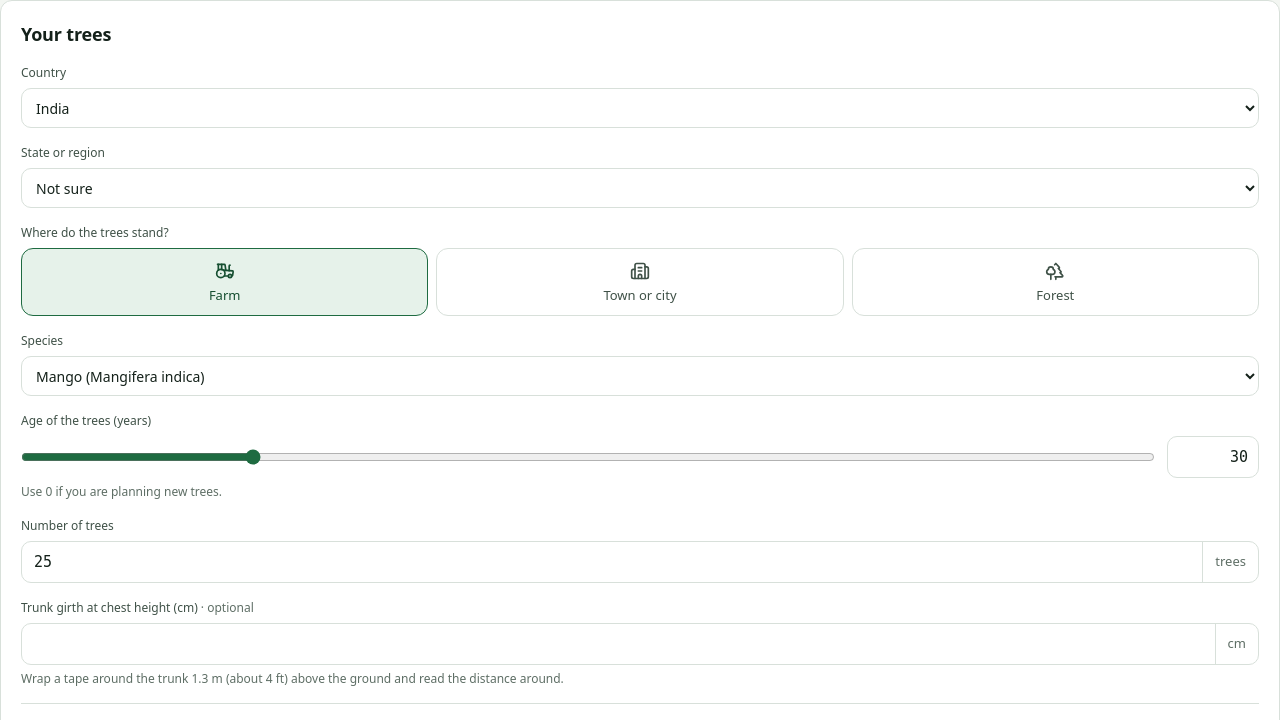
Scenario: InputsCard › lets someone type an age that is past the end of the slider
Replace the text in the field labelled "Age of the trees (years)" with "200" at (1213, 457), box x1=1168 y1=437 x2=1258 y2=477
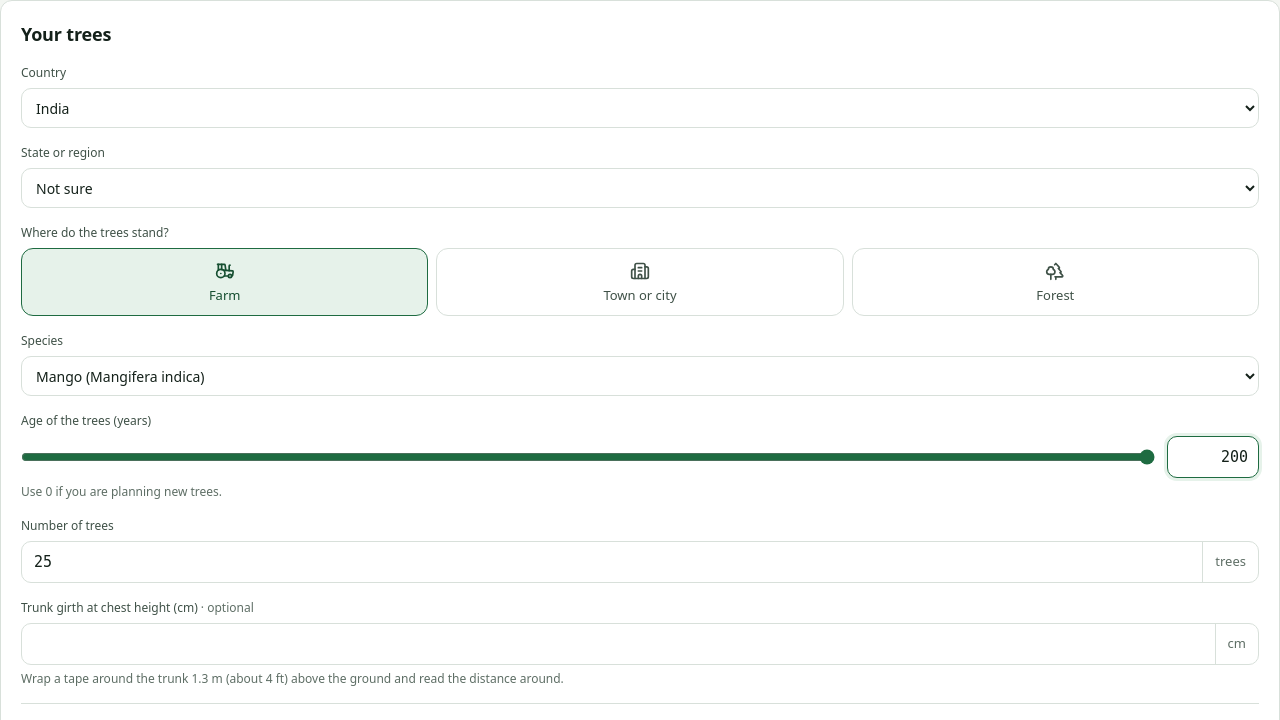
Check: the slider named "Age of the trees, slider" holds "150", box x1=21 y1=445 x2=1155 y2=469
